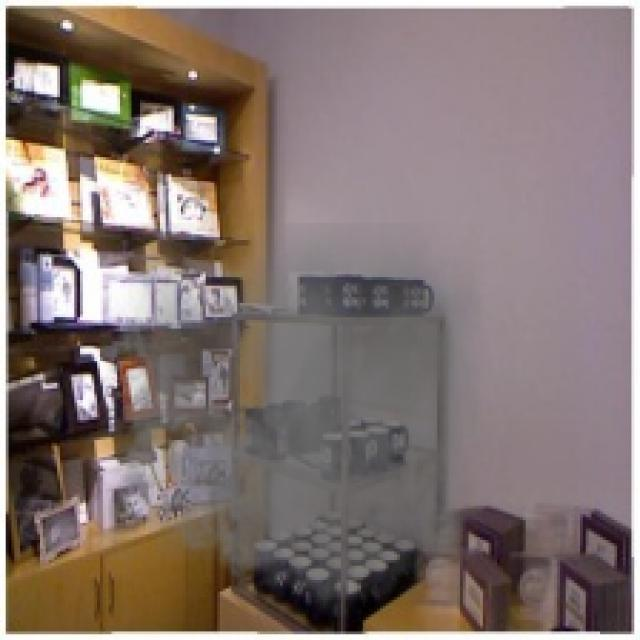Smoke: (97, 222, 483, 628)
